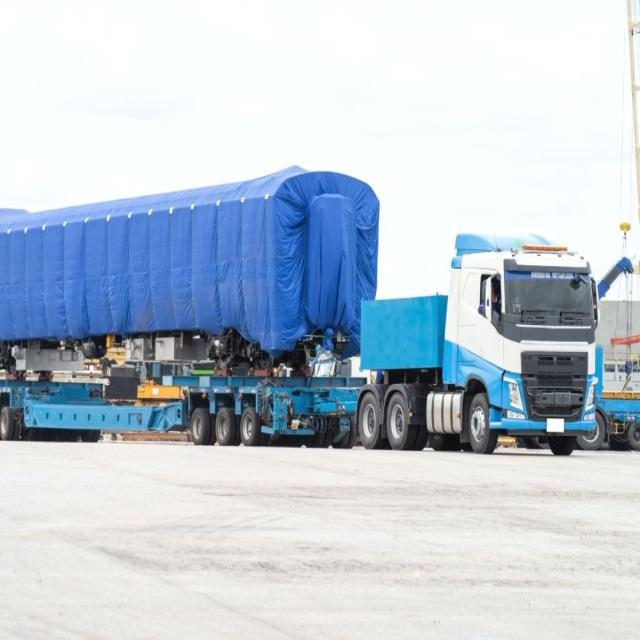TRUCK: (354, 237, 602, 458)
